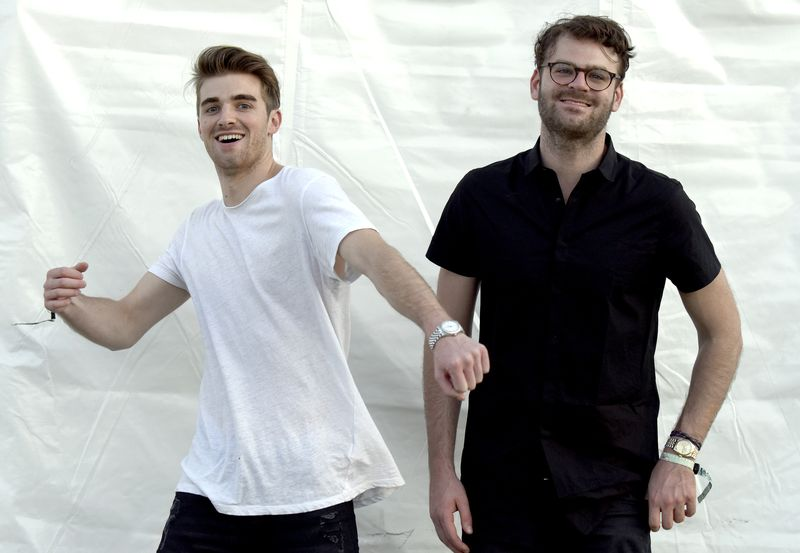face: (529, 31, 624, 134), (199, 72, 282, 169)
hand: (435, 333, 494, 401), (648, 459, 698, 533), (431, 477, 474, 553), (44, 257, 89, 314)
